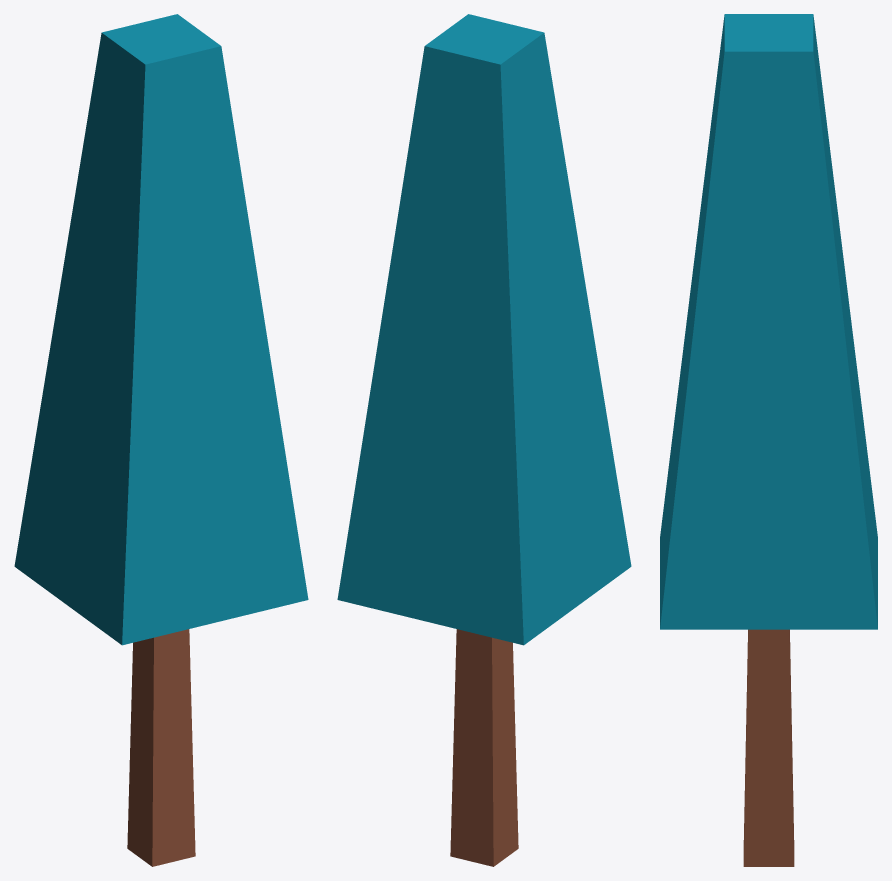
The model's file is Tree_26_summer_blue_pal.fbx.
The picture shows the model from 3 angles, left to right: view 1: azimuth 30°, elevation 25°; view 2: azimuth 150°, elevation 25°; view 3: azimuth 270°, elevation 25°; orthographic projection.
Visible parts, largest first — view 1: Tree_26_summer_blue_pal; view 2: Tree_26_summer_blue_pal; view 3: Tree_26_summer_blue_pal.
Part boxes in pixels (x1=…): Tree_26_summer_blue_pal: x1=14, y1=14, x2=308, y2=866; Tree_26_summer_blue_pal: x1=337, y1=14, x2=631, y2=866; Tree_26_summer_blue_pal: x1=660, y1=14, x2=877, y2=866.
Size of the model in its own units: 63.19 by 263 by 63.19.
